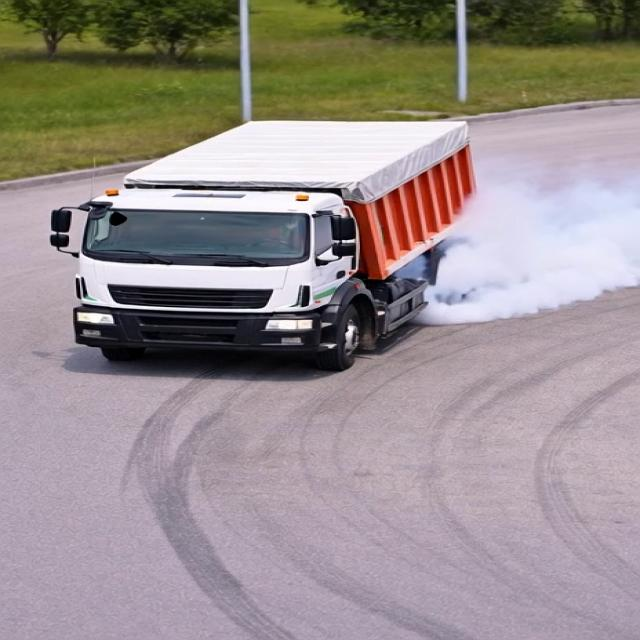Box: (122, 118, 486, 186)
Truck: (45, 91, 521, 370)
